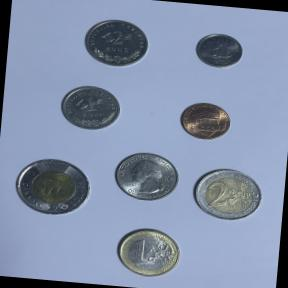1 Euro: (111, 223, 188, 282)
2 Euro: (186, 162, 268, 226)
Canda-10cent-: (191, 29, 248, 72)
Canda-2Dollar-: (9, 152, 97, 222)
Croatia-2Kune-: (78, 14, 155, 72)
US-1cent-: (176, 97, 235, 144)
US-25cent-: (109, 147, 183, 205)
